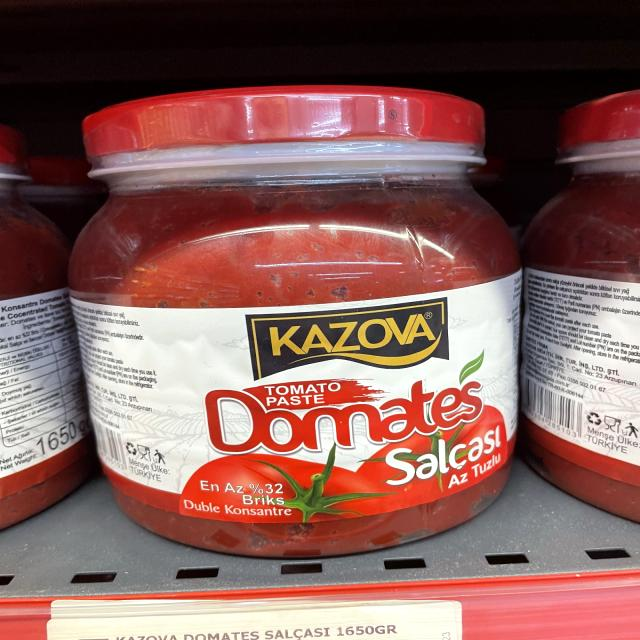tomato paste: (74, 90, 522, 541)
